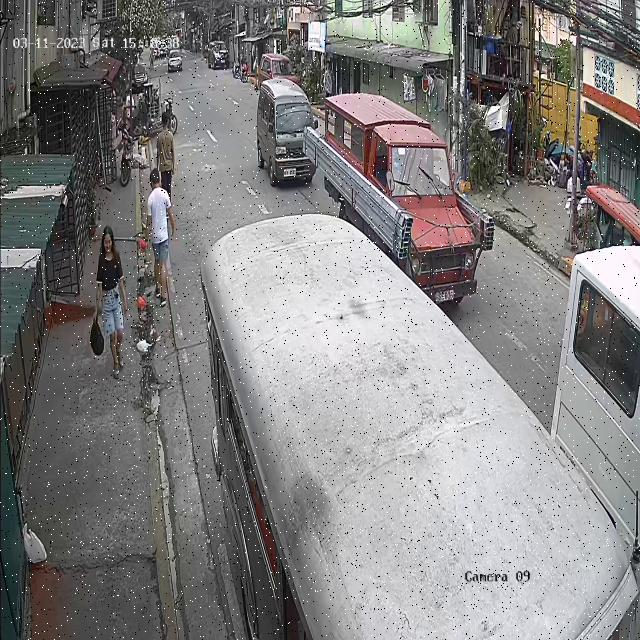human: (89, 224, 128, 380)
trash: (18, 520, 50, 572), (88, 314, 106, 364)
